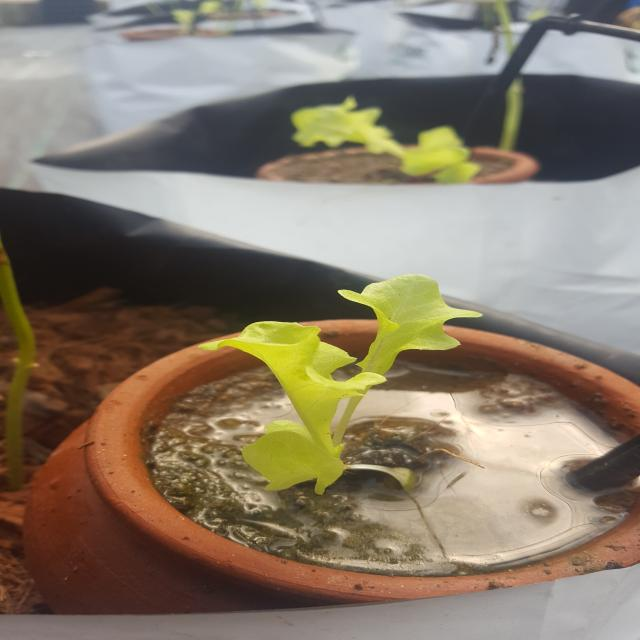Lettuce-Not-Ready-to-Harvest: (208, 272, 471, 488)
